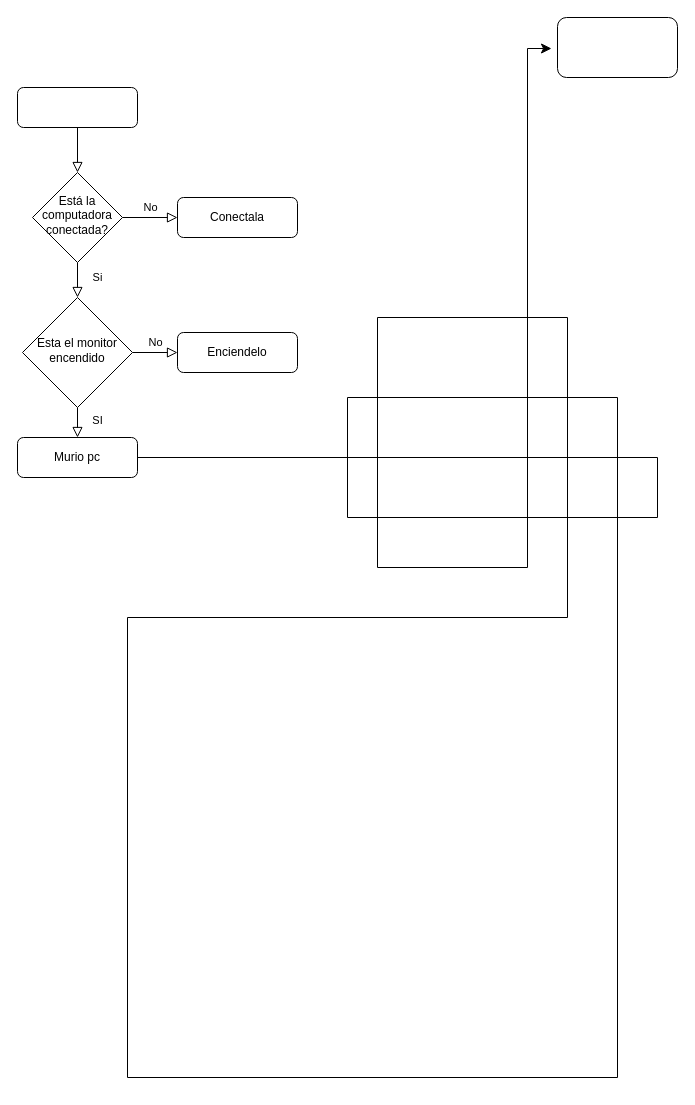
Image size: 695x1105. Some labels were removed from this diagram. The centre of each missing label's shape, as x and y in pixels:
"Llorar" goes at point (617, 47).
"Mi computadora no enciende" goes at point (77, 107).
